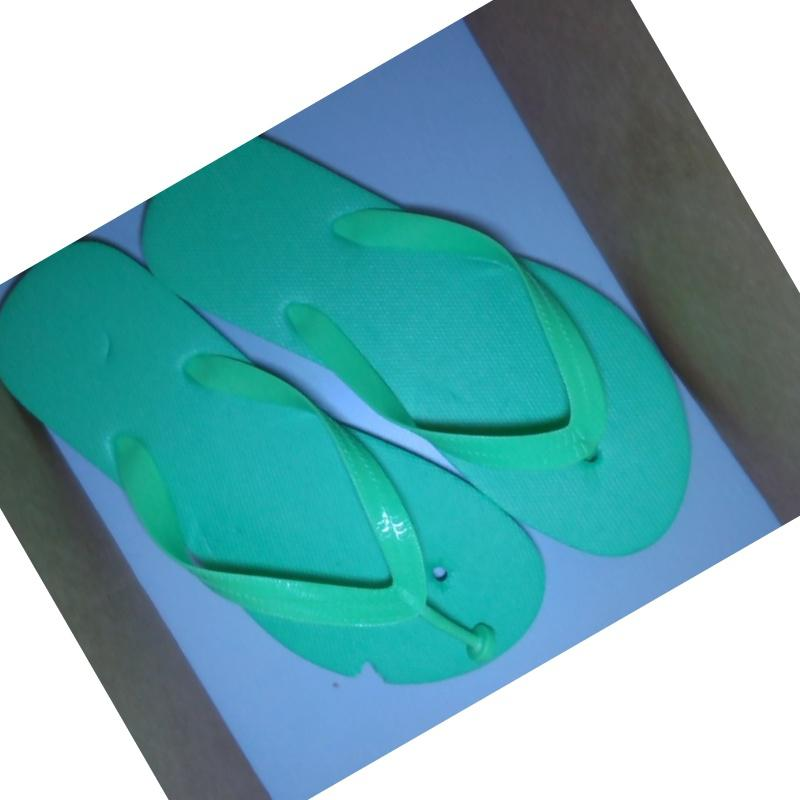chipped: (340, 645, 399, 702)
detached: (436, 602, 511, 673)
